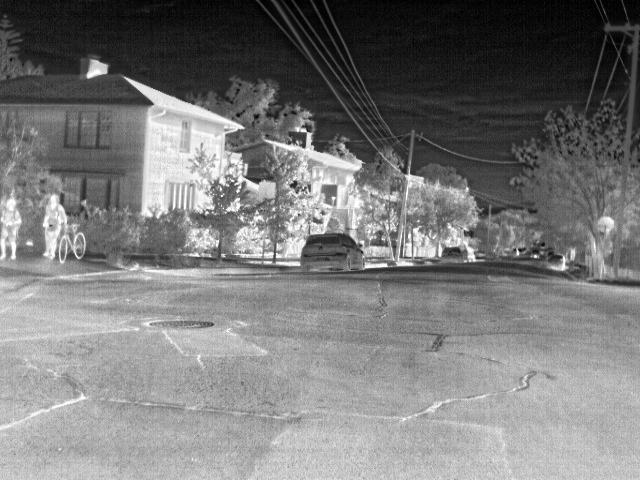car: (300, 232, 368, 274), (442, 248, 466, 264), (548, 256, 564, 269), (528, 248, 540, 262), (544, 250, 556, 260)
person: (45, 193, 64, 261), (1, 197, 21, 260)
